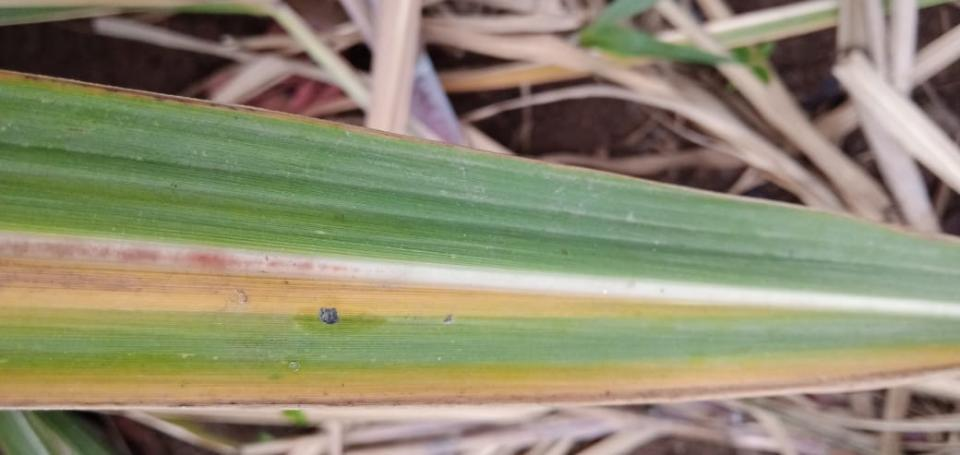RedRot: (0, 240, 350, 273)
Rust: (23, 74, 240, 112), (243, 105, 257, 113)
Yellow: (0, 342, 959, 409), (0, 263, 835, 316), (1, 70, 502, 155)
